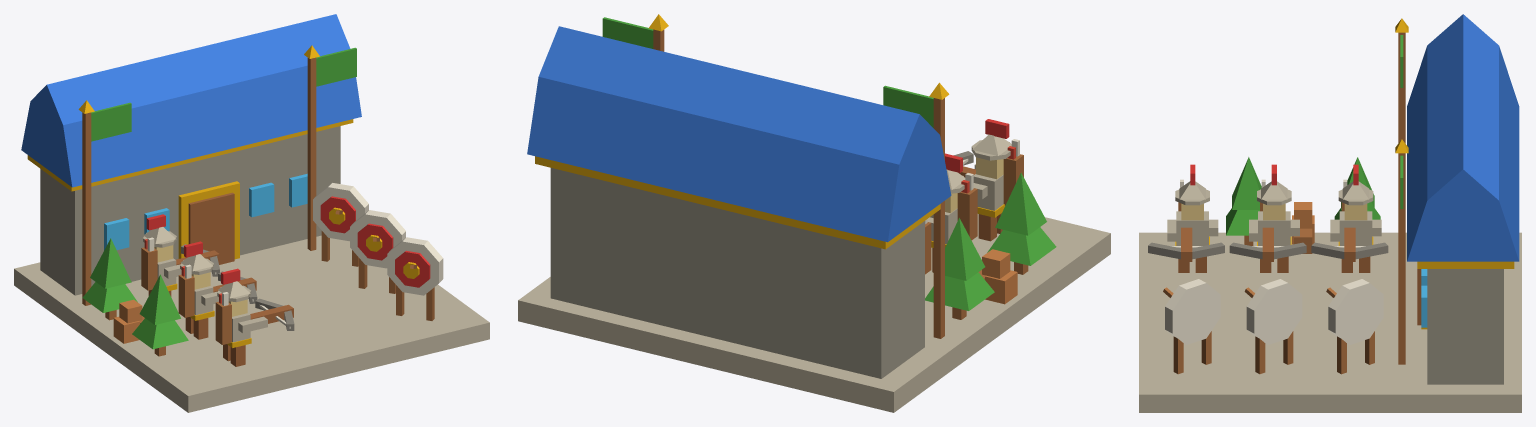
Rendered from archery_range_t3_v3.glb.
The picture shows the model from 3 angles, left to right: view 1: azimuth 30°, elevation 25°; view 2: azimuth 150°, elevation 25°; view 3: azimuth 270°, elevation 25°; orthographic projection. The views are drawn at different scales.
Parts seen in each view (by area): view 1: archery_range_t3_v3; view 2: archery_range_t3_v3; view 3: archery_range_t3_v3.
Boxes of the visible parts, x1,y1,x2,y2 form: archery_range_t3_v3: (14, 14, 489, 412); archery_range_t3_v3: (518, 14, 1110, 412); archery_range_t3_v3: (1139, 14, 1521, 412).
Size of the model in its own units: 0.75 by 0.525 by 0.75.
Materials: 1 (1 with a texture image).
